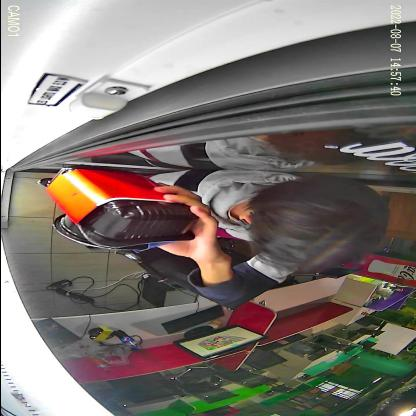blue: (50, 213, 176, 254)
red: (35, 164, 198, 250)
